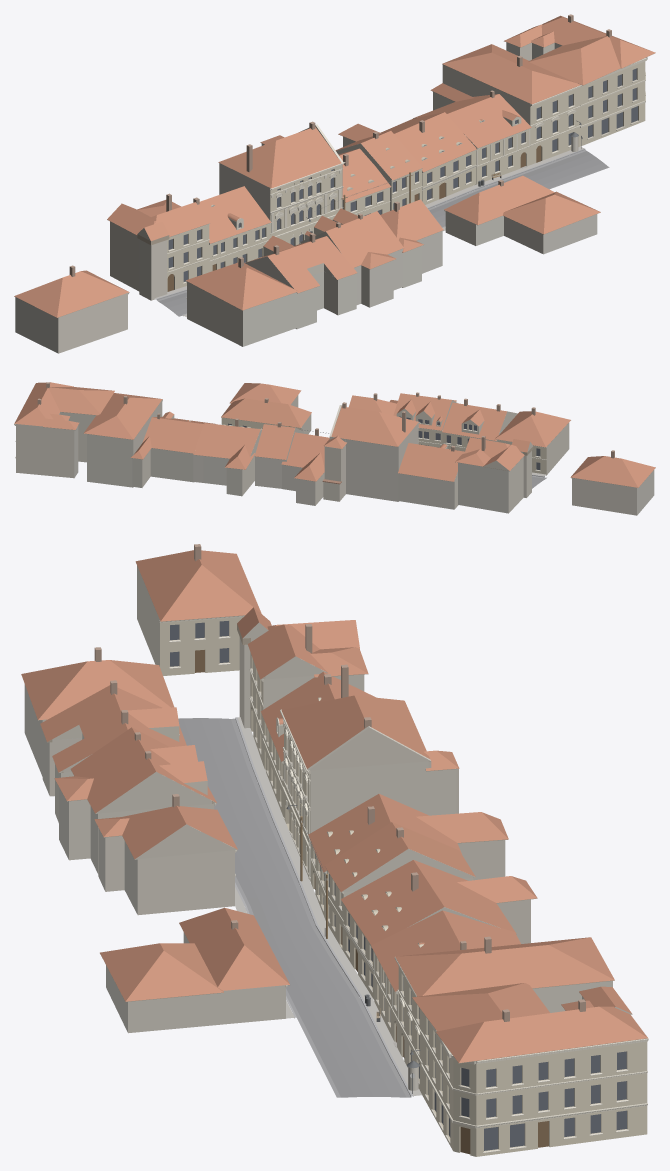
The model's file is kulova_street.glb.
3 renders of one model, top to bottom at view 1: azimuth 30°, elevation 25°; view 2: azimuth 150°, elevation 25°; view 3: azimuth 270°, elevation 25°, orthographic. The views are drawn at different scales.
Parts seen in each view (by area): view 1: CP_267_Masonry, CP_262_Masonry, CP_154_Masonry, CP_266_Masonry, CP_259_Masonry, CP_262_Roof, CP_260_Masonry, CP_266_Roof, CP_257_Masonry, CP_111_Roof, CP_259_Roof, CP_154_Roof (+26 smaller); view 2: CP_267_Masonry, CP_262_Masonry, CP_260_Masonry, CP_266_Masonry, CP_154_Masonry, CP_262_Roof, CP_266_Roof, CP_261_Roof, CP_265_Masonry, CP_154_Roof, CP_111_Roof, CP_257_Roof (+32 smaller); view 3: Street_Road_Setts, CP_267_Masonry, CP_266_Roof, CP_1712_Masonry, CP_267_Roof, CP_262_Masonry, CP_111_Roof, CP_154_Roof, CP_257_Masonry, CP_262_Roof, CP_257_Roof, CP_154_Masonry (+36 smaller).
Part boxes in pixels (bbox=[...]): CP_267_Masonry: bbox=[506, 42, 645, 146]; CP_262_Masonry: bbox=[219, 163, 341, 245]; CP_154_Masonry: bbox=[15, 293, 127, 353]; CP_266_Masonry: bbox=[442, 64, 580, 164]; CP_259_Masonry: bbox=[187, 281, 296, 346]; CP_262_Roof: bbox=[218, 127, 341, 188]; CP_260_Masonry: bbox=[110, 221, 209, 291]; CP_266_Roof: bbox=[442, 44, 580, 104]; CP_257_Masonry: bbox=[445, 211, 597, 254]; CP_111_Roof: bbox=[380, 112, 476, 172]; CP_259_Roof: bbox=[186, 262, 298, 310]; CP_154_Roof: bbox=[14, 270, 129, 317]; CP_267_Masonry: bbox=[16, 412, 95, 478]; CP_262_Masonry: bbox=[346, 423, 418, 501]; CP_260_Masonry: bbox=[458, 457, 523, 513]; CP_266_Masonry: bbox=[87, 400, 162, 487]; CP_154_Masonry: bbox=[572, 470, 654, 515]; CP_262_Roof: bbox=[331, 406, 418, 446]; CP_266_Roof: bbox=[84, 393, 162, 439]; CP_261_Roof: bbox=[398, 443, 464, 481]; CP_265_Masonry: bbox=[132, 448, 194, 487]; CP_154_Roof: bbox=[571, 456, 655, 487]; CP_111_Roof: bbox=[193, 423, 260, 458]; CP_257_Roof: bbox=[221, 398, 311, 427]; Street_Road_Setts: bbox=[178, 718, 406, 1097]; CP_267_Masonry: bbox=[422, 996, 647, 1156]; CP_266_Roof: bbox=[395, 937, 614, 996]; CP_1712_Masonry: bbox=[98, 828, 234, 915]; CP_267_Roof: bbox=[436, 1006, 647, 1062]; CP_262_Masonry: bbox=[284, 726, 428, 881]; CP_111_Roof: bbox=[341, 860, 516, 945]; CP_154_Roof: bbox=[135, 550, 261, 621]; CP_257_Masonry: bbox=[106, 932, 285, 1033]; CP_262_Roof: bbox=[281, 695, 429, 768]; CP_257_Roof: bbox=[179, 907, 289, 990]; CP_154_Masonry: bbox=[137, 565, 243, 675].
Size of the model in its own units: 143 by 20.55 by 71.05.
